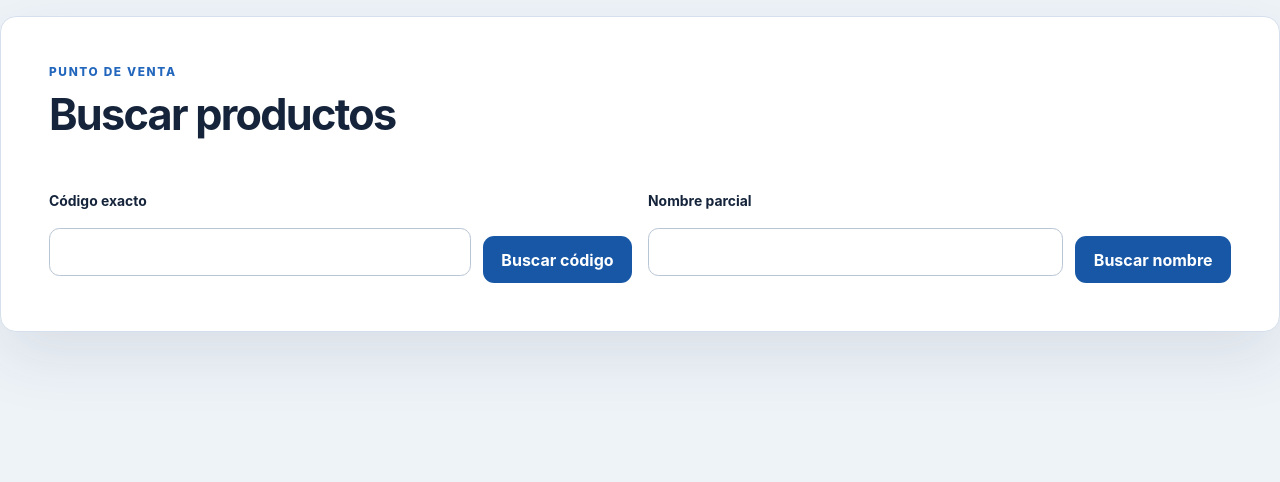
Test case: ProductSearch › searches an exact code and marks zero stock unavailable
The image size is (1280, 482).
Type "00123" into the field labelled "Código exacto" at point(260, 252), box [49,228,471,276]
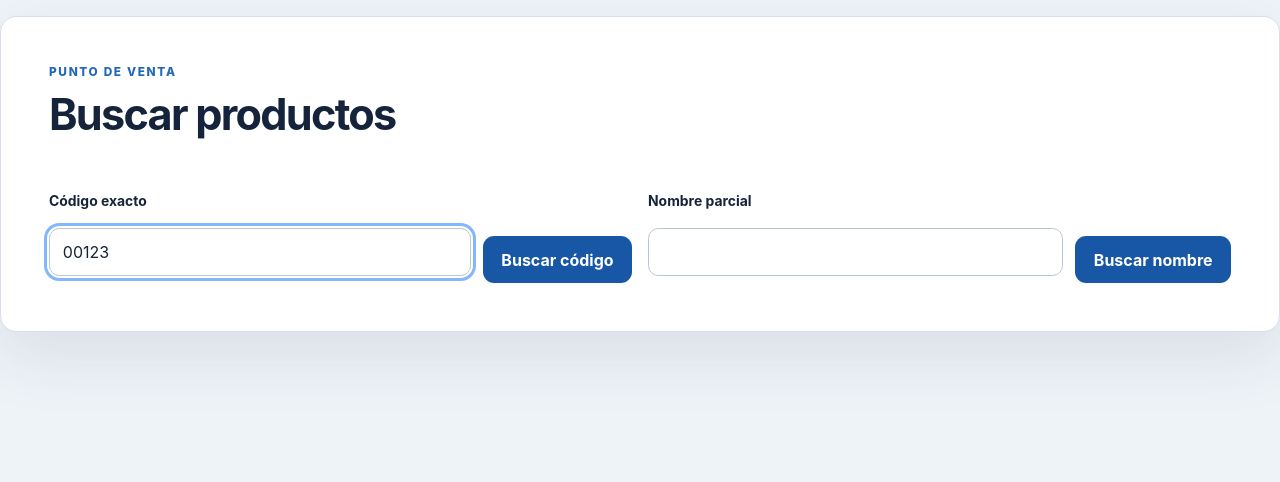
Click the button "Buscar código" at point(558, 260), box [483,236,632,283]
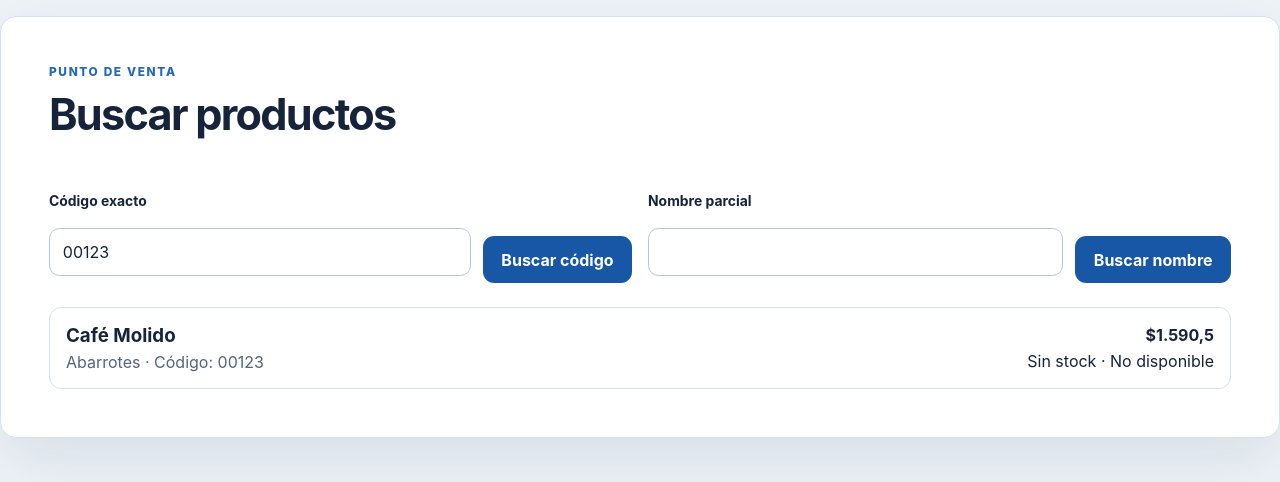
Result: the heading "Café Molido" is shown at [66,324,176,347]
Result: the text "Sin stock · No disponible" is shown at [1027,351,1214,371]
